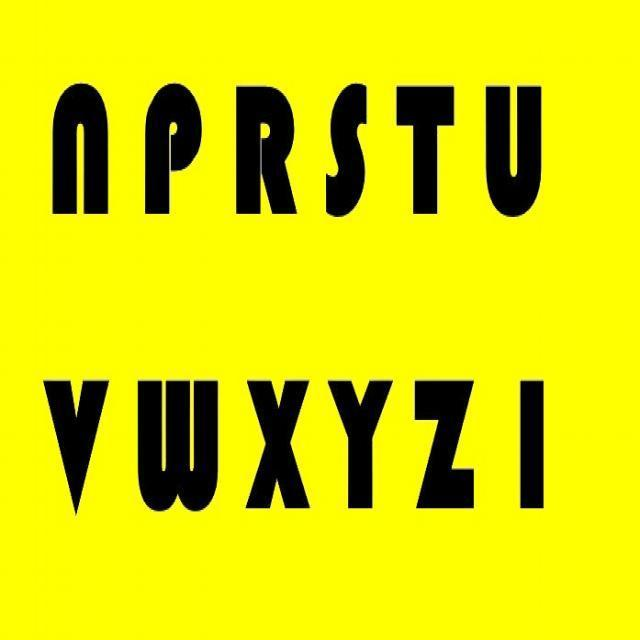1: (502, 371, 554, 517)
N: (39, 74, 123, 219)
P: (136, 73, 208, 220)
R: (220, 74, 306, 222)
S: (321, 76, 375, 224)
T: (391, 80, 462, 223)
U: (472, 80, 550, 226)
V: (129, 372, 227, 520), (33, 368, 120, 516)
X: (239, 370, 319, 520)
Y: (323, 370, 392, 518)
Z: (406, 370, 484, 516)
